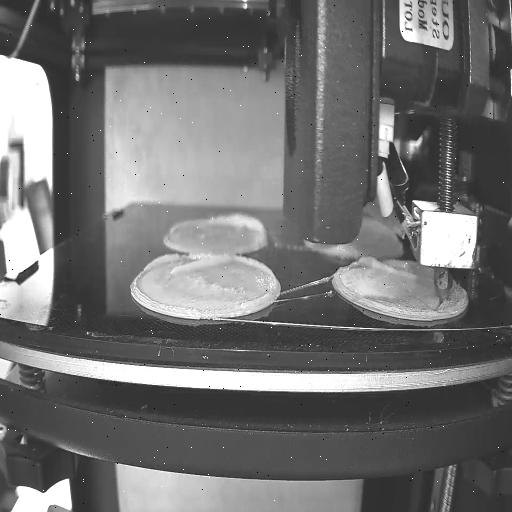over_extrusion: (236, 256, 280, 308), (208, 209, 268, 247), (142, 254, 236, 278), (352, 258, 426, 285), (168, 218, 192, 234)
